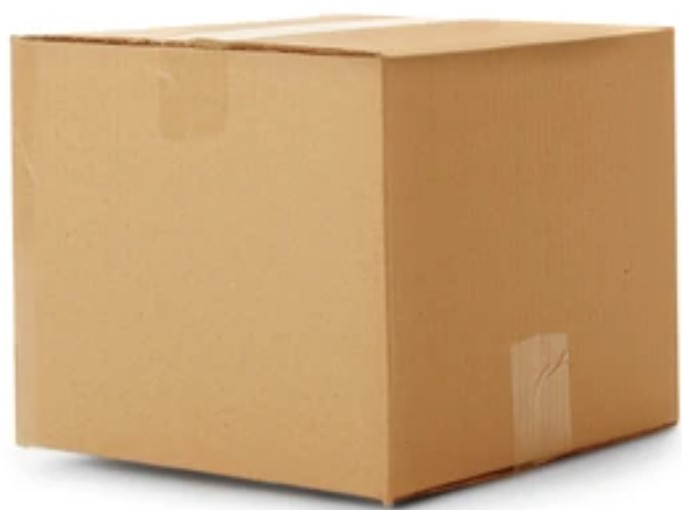stock: (14, 15, 681, 510)
